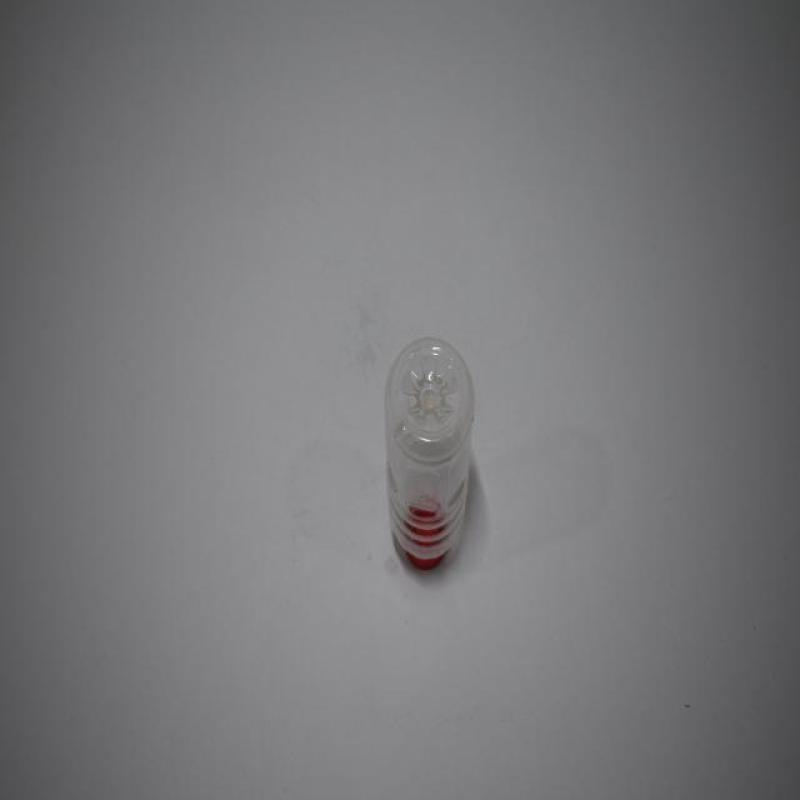botella: (383, 340, 477, 568)
